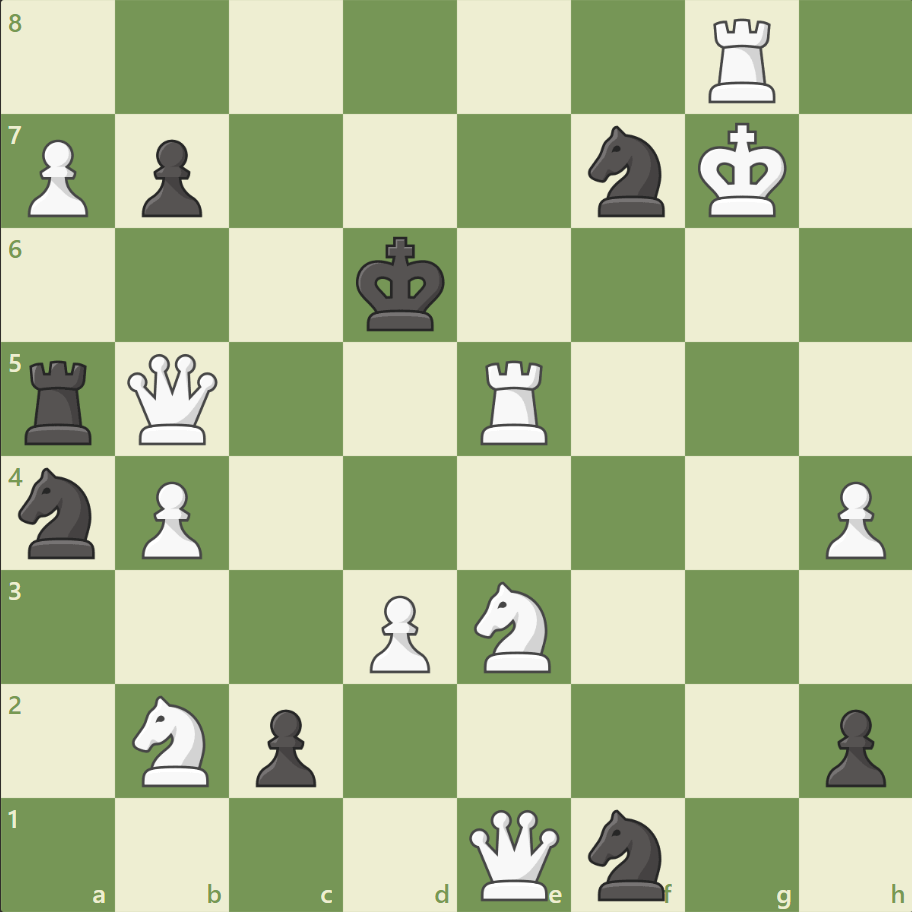K: (692, 117, 792, 225)
N: (124, 688, 222, 791), (465, 575, 562, 677)
P: (20, 132, 95, 223), (133, 473, 208, 564), (815, 473, 889, 564), (361, 586, 435, 677)
Q: (124, 349, 223, 449), (464, 804, 563, 903)
R: (700, 12, 783, 109), (473, 352, 556, 449)
k: (351, 231, 451, 339)
n: (11, 461, 108, 564), (579, 121, 676, 223), (579, 802, 676, 904)
p: (133, 132, 208, 223), (247, 700, 322, 791), (815, 700, 889, 791)
r: (19, 352, 102, 449)
